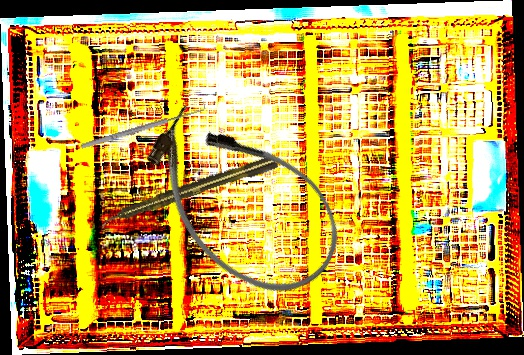Cannula: (117, 80, 367, 323)
Handpiece: (97, 153, 280, 230)
Hook Surgical: (78, 100, 208, 151)
